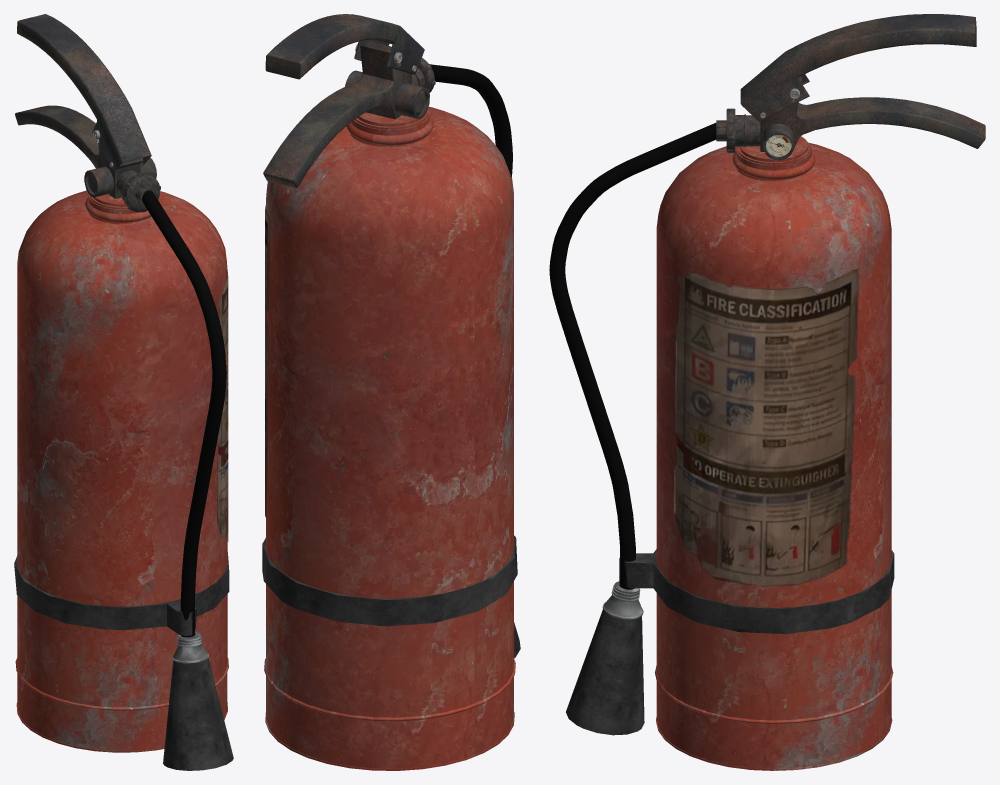
The model's file is extinguisher.glb.
3 renders of one model, left to right at view 1: azimuth 30°, elevation 25°; view 2: azimuth 150°, elevation 25°; view 3: azimuth 270°, elevation 25°, orthographic. The views are drawn at different scales.
Size of the model in its own units: 2.04 by 6.55 by 3.69.
15 materials, 14 textured.
